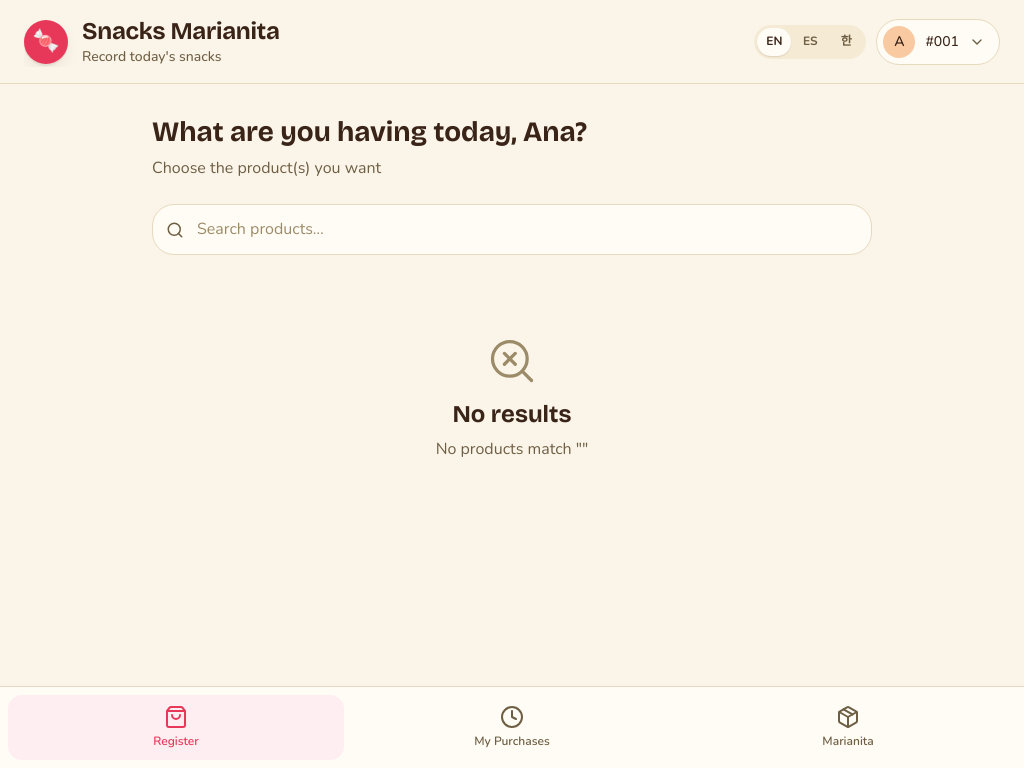
App — cambio de usuario › el botón de usuario en el header abre el PersonPicker
The width and height of the screenshot is (1024, 768).
Check: the text "#001" is shown, box [925,31,959,52]
Click the button "A #001": (938, 42) [876,18,1000,64]
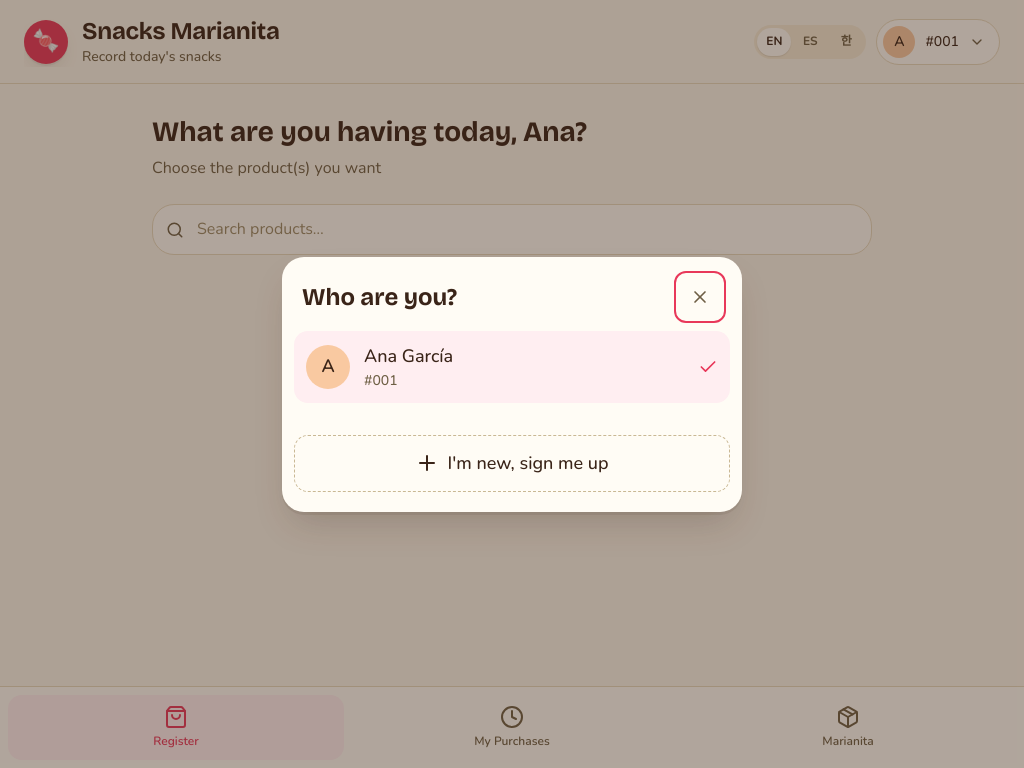
Check: the heading "Who are you?" is shown, box [302,282,457,312]
